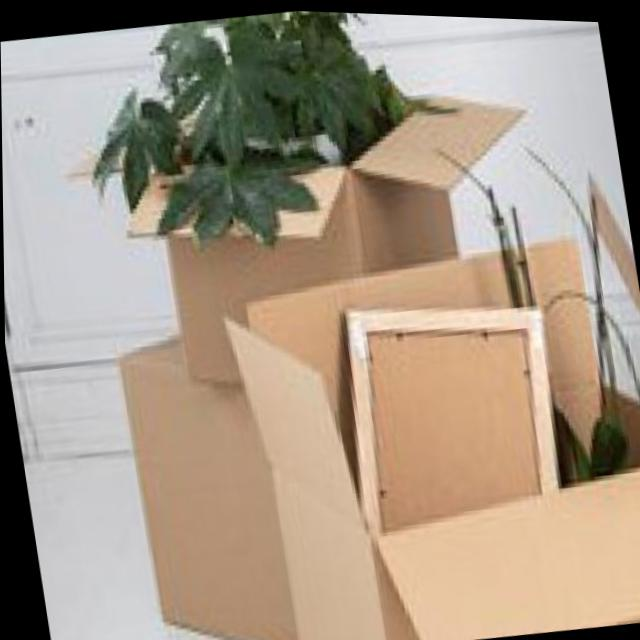box: (206, 198, 640, 640), (101, 62, 574, 414), (105, 316, 304, 640)
